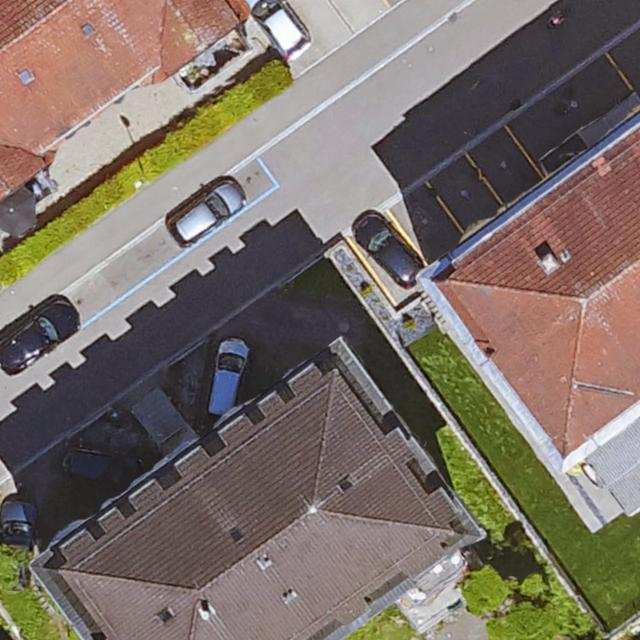tree: (485, 601, 576, 640), (462, 566, 512, 613), (525, 574, 552, 599)
